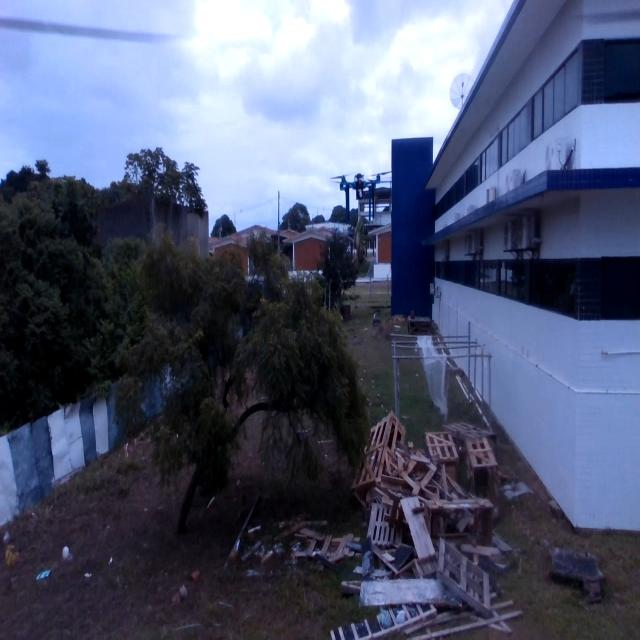-uav-: (323, 163, 395, 231)
